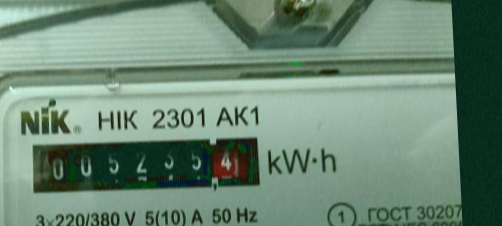0: (51, 154, 68, 180), (80, 150, 95, 176)
2: (135, 146, 150, 172)
3: (163, 143, 178, 169)
4: (220, 144, 236, 171)
5: (190, 143, 206, 170), (107, 148, 123, 174)
screen: (23, 122, 274, 204)
